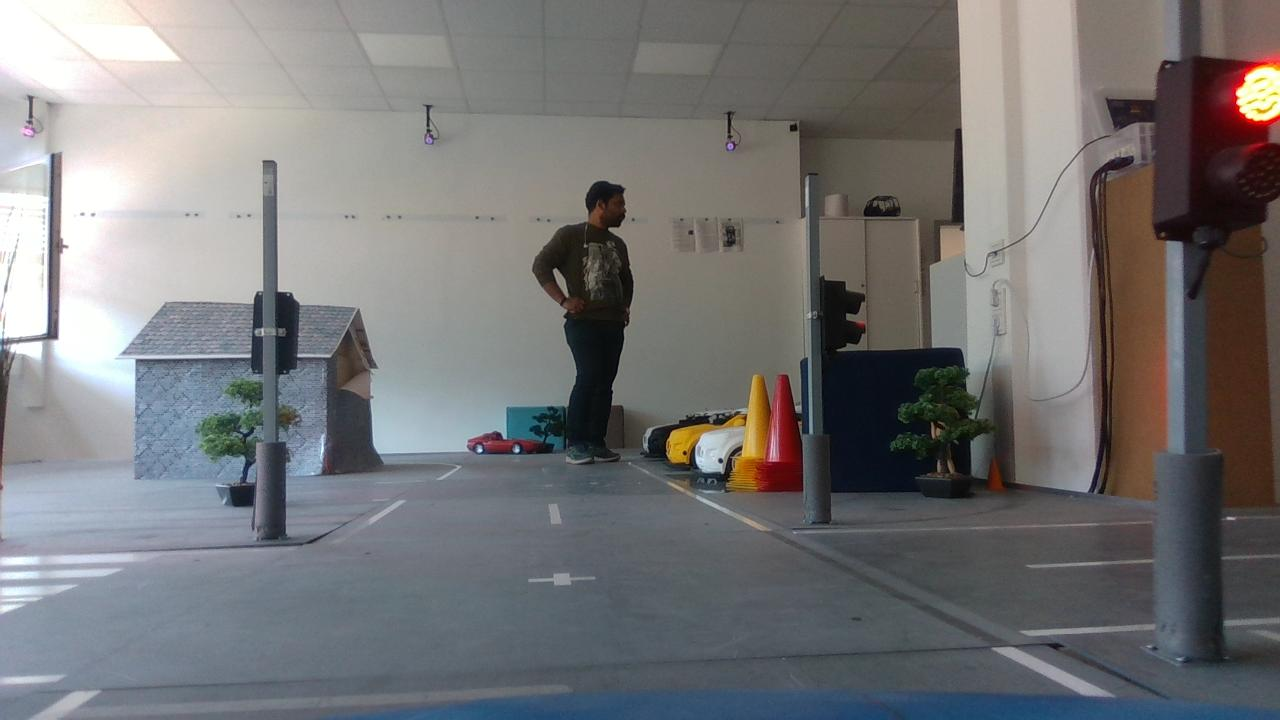traffic_light_red: (1136, 47, 1280, 259)
